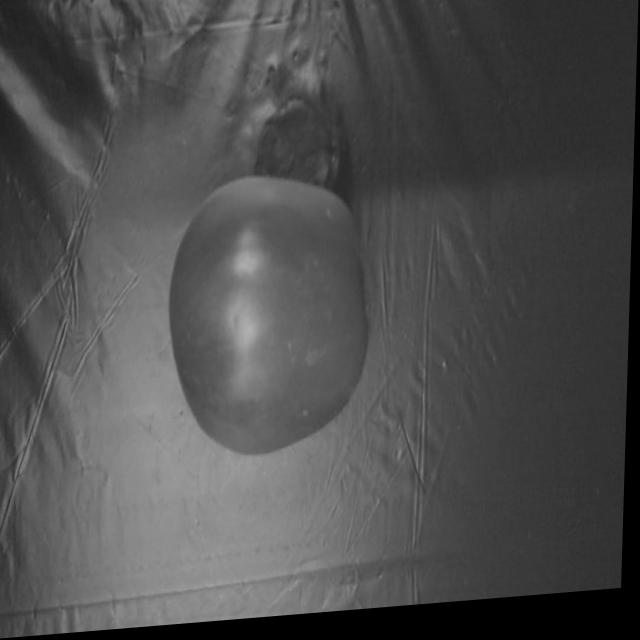kirmizi: (153, 150, 379, 467)
